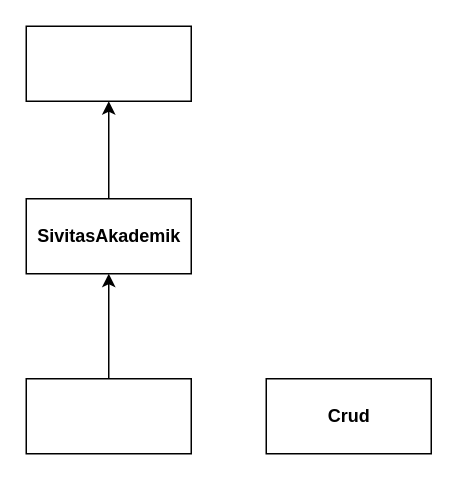
Some shapes in this 458 by 480 pixel diagram are drawn without their labels. The centre of each missing label's shape, as x and y in pixels:
Human: point 108,63
Mahasiswa: point 108,415
